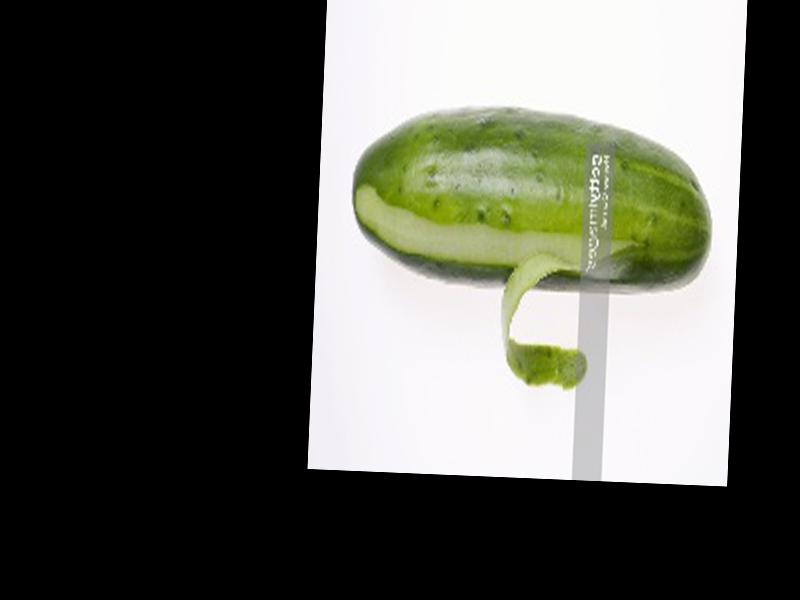Cucumber: (346, 103, 716, 300)
